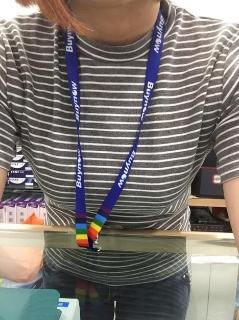short sleeve top: (0, 0, 239, 286)
trousers: (43, 230, 191, 319)
